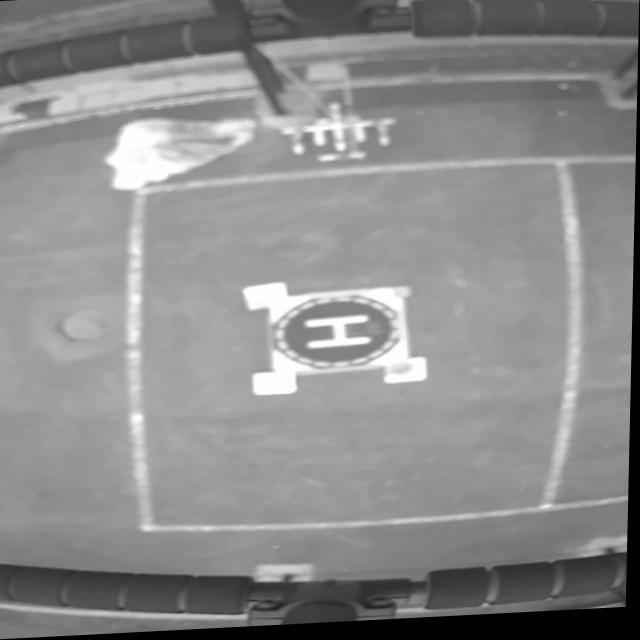Helipad: (306, 317, 373, 351)
